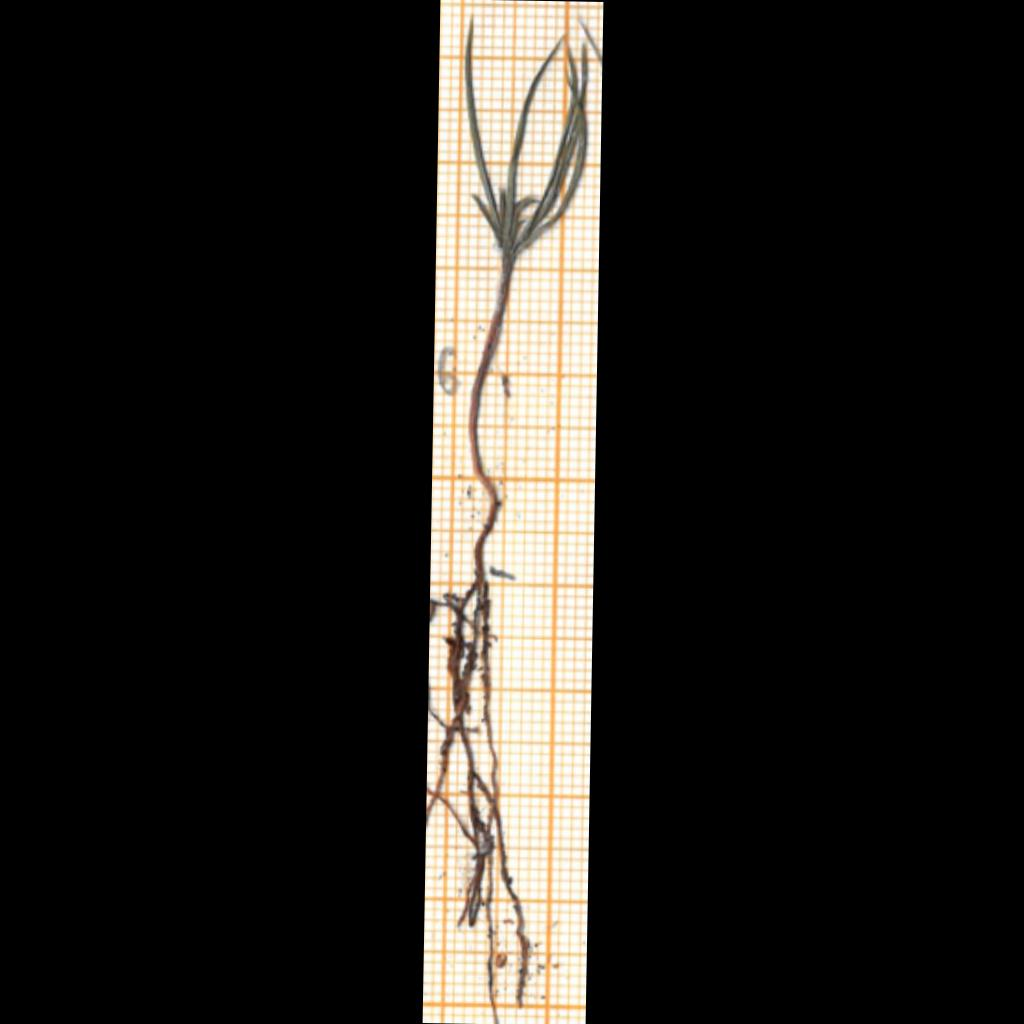flowerPinus: (465, 23, 587, 268)
rootPinus: (426, 583, 527, 1023)
stemPinus: (469, 257, 511, 582)
